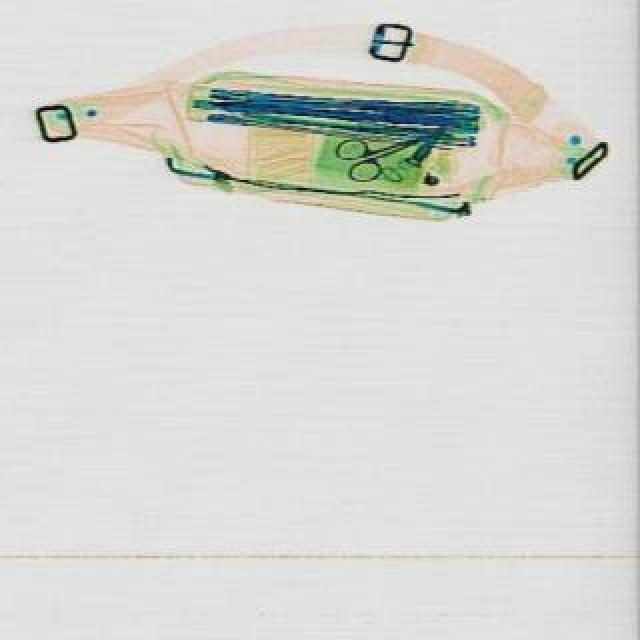pliers: (336, 116, 438, 190)
